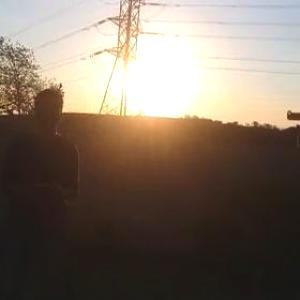follow: (0, 83, 84, 299)
